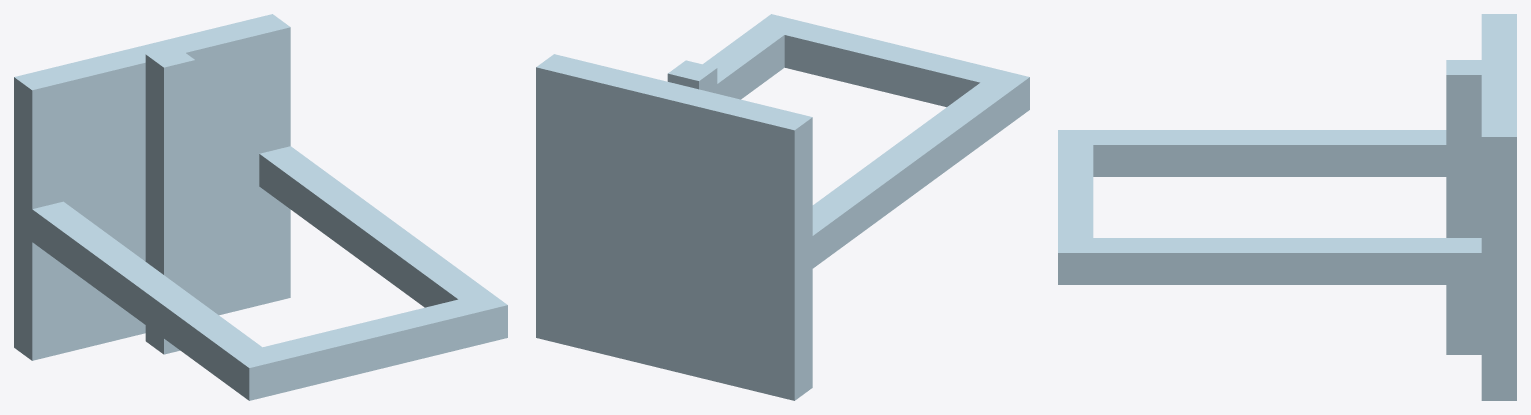
Rendered from Frame.gltf.
The picture shows the model from 3 angles, left to right: view 1: azimuth 30°, elevation 25°; view 2: azimuth 150°, elevation 25°; view 3: azimuth 270°, elevation 25°; orthographic projection. The views are drawn at different scales.
Parts seen in each view (by area): view 1: mesh77, mesh83, mesh79, mesh75, mesh76, mesh89, mesh78, mesh72, mesh87, mesh85; view 2: mesh71, mesh75, mesh79, mesh82, mesh72, mesh78, mesh85; view 3: mesh74, mesh79, mesh81, mesh86, mesh72, mesh85.
Boxes of the visible parts, <box> form: mesh77: <box>186,27,290,315</box>; mesh83: <box>32,62,145,360</box>; mesh79: <box>32,146,507,367</box>; mesh75: <box>14,77,249,400</box>; mesh76: <box>249,305,507,400</box>; mesh89: <box>164,60,195,354</box>; mesh78: <box>259,154,457,307</box>; mesh72: <box>14,14,290,90</box>; mesh87: <box>145,54,163,354</box>; mesh85: <box>146,47,194,67</box>; mesh71: <box>536,67,794,400</box>; mesh75: <box>794,77,1029,400</box>; mesh79: <box>703,14,1029,235</box>; mesh82: <box>784,35,979,107</box>; mesh72: <box>536,54,812,130</box>; mesh78: <box>717,35,784,99</box>; mesh85: <box>668,60,716,80</box>; mesh74: <box>1058,137,1516,400</box>; mesh79: <box>1058,130,1481,252</box>; mesh81: <box>1093,145,1446,176</box>; mesh86: <box>1446,75,1481,354</box>; mesh72: <box>1481,14,1516,136</box>; mesh85: <box>1446,60,1481,74</box>.
Size of the model in its own units: 0.33 by 0.35 by 0.52.
